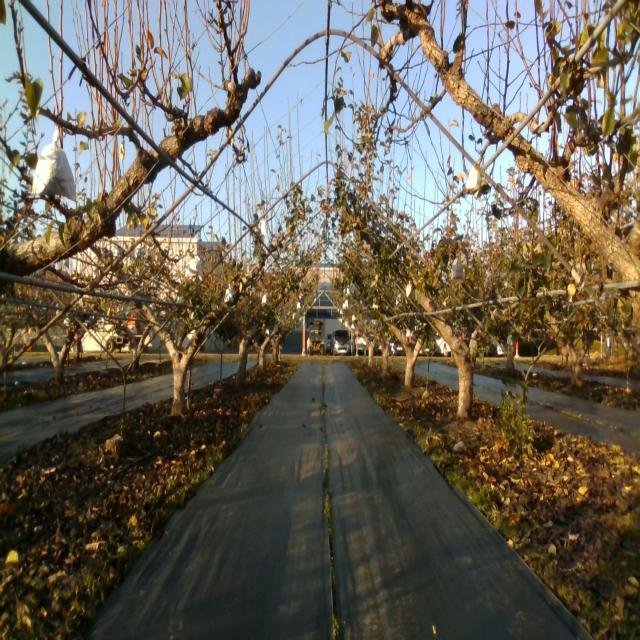pearbags: (32, 125, 77, 203), (465, 164, 481, 202), (183, 252, 200, 283), (450, 258, 464, 282), (224, 283, 234, 303)
